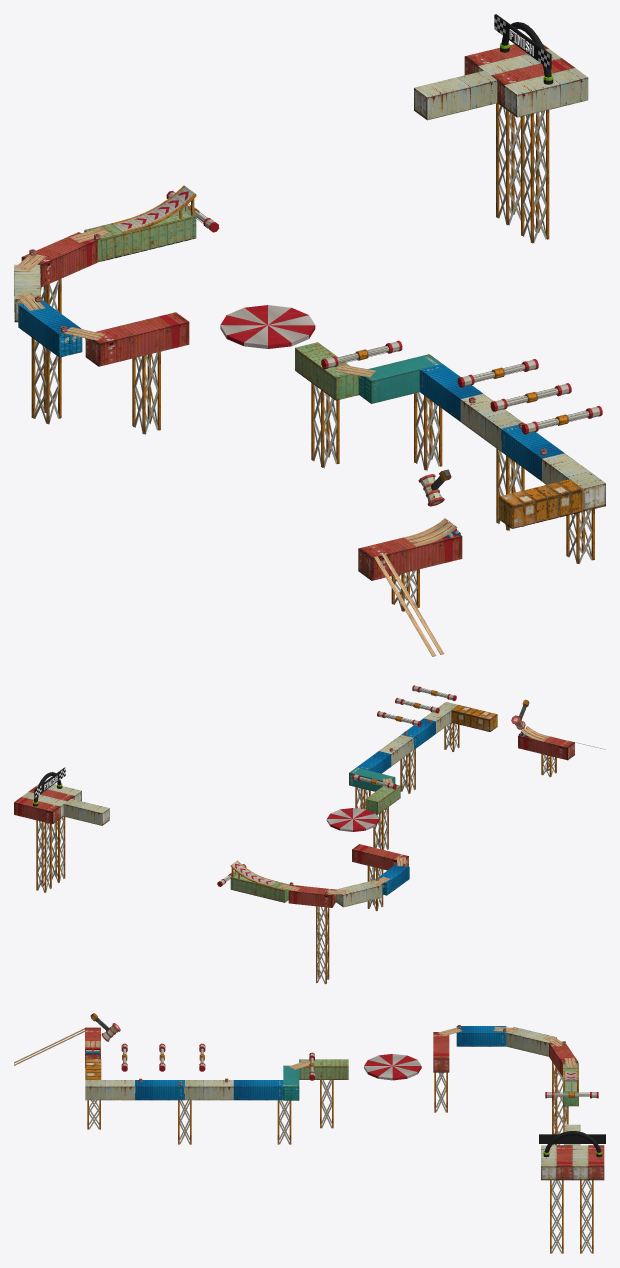
Rendered from 11_Parkour.fbx.
3 renders of one model, top to bottom at view 1: azimuth 30°, elevation 25°; view 2: azimuth 150°, elevation 25°; view 3: azimuth 270°, elevation 25°, orthographic. The views are drawn at different scales.
Parts seen in each view (by area): view 1: stcontainerred__5_, TurningPlatformFast__1_, stcontainerred__4_, stcontainerorange, stcontainerwhite__6_, stcontainerwhite__5_, stcontainergreentwo__1_, stcontainergreen, stcontainerblue__2_, stcontainergreentwo, stcontainerred__6_, orangescaffold__5_ (+18 smaller); view 2: TurningPlatformFast__1_, stcontainerred__4_, stcontainerred__5_, stcontainergreentwo__1_, stcontainerorange, stcontainerwhite__6_, stcontainerred__7_, stcontainerwhite__3_, stcontainerred__6_, stcontainergreentwo, stcontainergreen, stcontainerblue__2_ (+13 smaller); view 3: TurningPlatformFast__1_, stcontainerblue__1_, stcontainerwhite__1_, stcontainerblue, stcontainerwhite__2_, stcontainerblue__2_, stcontainergreentwo, stcontainerwhite__3_, finishObject, stcontainerred__5_, stcontainerred__8_, stcontainerwhite__4_ (+16 smaller).
Part boxes in pixels (<box>): stcontainerred__5_: <box>85,312,189,366</box>; TurningPlatformFast__1_: <box>220,305,315,348</box>; stcontainerred__4_: <box>358,531,462,580</box>; stcontainerorange: <box>499,479,583,528</box>; stcontainerwhite__6_: <box>414,70,497,120</box>; stcontainerwhite__5_: <box>504,68,588,117</box>; stcontainergreentwo__1_: <box>84,207,196,262</box>; stcontainergreen: <box>358,354,441,403</box>; stcontainerblue__2_: <box>18,299,82,357</box>; stcontainergreentwo: <box>295,342,358,400</box>; stcontainerred__6_: <box>21,232,97,287</box>; orangescaffold__5_: <box>132,351,160,434</box>; TurningPlatformFast__1_: <box>326,808,378,831</box>; stcontainerred__4_: <box>518,733,574,760</box>; stcontainerred__5_: <box>352,844,408,870</box>; stcontainergreentwo__1_: <box>230,872,289,902</box>; stcontainerorange: <box>451,705,497,731</box>; stcontainerwhite__6_: <box>63,798,109,825</box>; stcontainerred__7_: <box>14,797,60,824</box>; stcontainerwhite__3_: <box>336,880,382,907</box>; stcontainerred__6_: <box>288,885,335,907</box>; stcontainergreentwo: <box>365,785,400,814</box>; stcontainergreen: <box>349,767,395,791</box>; stcontainerblue__2_: <box>375,864,409,895</box>; TurningPlatformFast__1_: <box>364,1054,421,1080</box>; stcontainerblue__1_: <box>233,1080,283,1100</box>; stcontainerwhite__1_: <box>85,1080,135,1100</box>; stcontainerblue: <box>135,1080,184,1100</box>; stcontainerwhite__2_: <box>184,1080,233,1100</box>; stcontainerblue__2_: <box>456,1026,506,1046</box>; stcontainergreentwo: <box>299,1059,348,1079</box>; stcontainerwhite__3_: <box>506,1027,556,1056</box>; finishObject: <box>539,1131,605,1157</box>; stcontainerred__5_: <box>433,1032,449,1072</box>; stcontainerred__8_: <box>556,1145,572,1180</box>; stcontainerwhite__4_: <box>572,1145,588,1180</box>.
Size of the model in its own units: 13990 by 5961 by 19792.
